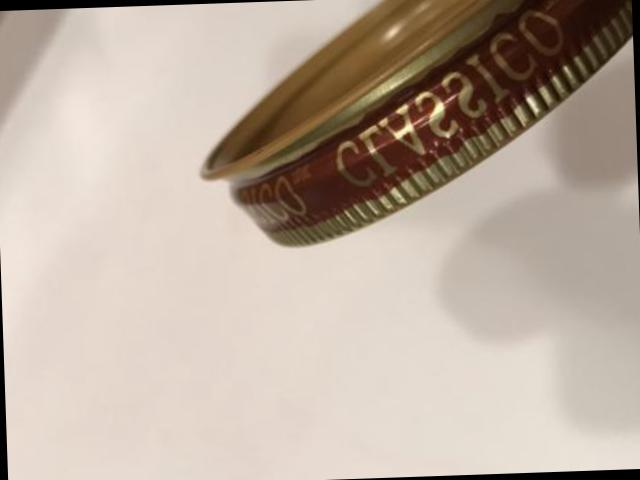metal: (201, 0, 633, 248)
